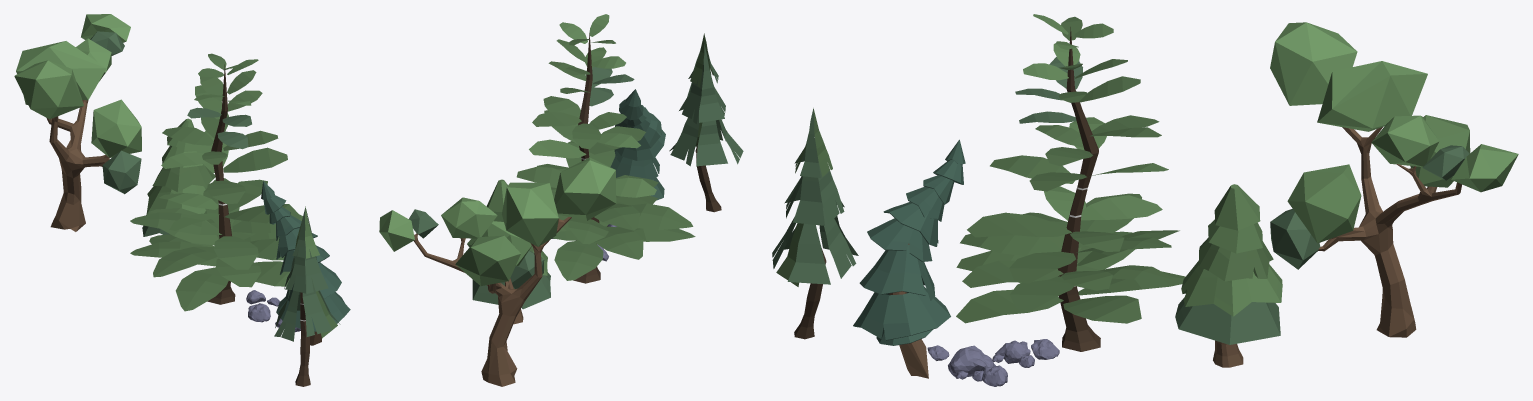
File: trees.glb
3 views of the same model, side by side, from view 1: azimuth 30°, elevation 25°; view 2: azimuth 150°, elevation 25°; view 3: azimuth 270°, elevation 25° (orthographic). The views are drawn at different scales.
Parts seen in each view (by area): view 1: Cone.430, Plane, Icosphere.005, Icosphere.006, Icosphere.003, Plane.003, Cylinder.006, Icosphere.007, Plane.011, Cylinder.003, Plane.013, Plane.015 (+37 smaller); view 2: Plane, Icosphere.005, Cone.430, Icosphere.003, Icosphere.004, Icosphere, Plane.004, Plane.011, Plane.007, Icosphere.002, Plane.051, Cylinder.001 (+28 smaller); view 3: Cone.430, Plane, Icosphere.003, Icosphere.005, Icosphere.006, Cylinder.006, Cylinder.001, Cylinder.002, Icosphere, Cylinder.003, Icosphere.002, Icosphere.007 (+35 smaller).
Boxes of the visible parts, left/top/right/bottom form: Cone.430: left=261, top=181, right=350, bottom=345; Plane: left=46, top=100, right=109, bottom=231; Icosphere.005: left=14, top=60, right=83, bottom=119; Icosphere.006: left=91, top=99, right=141, bottom=157; Icosphere.003: left=16, top=41, right=106, bottom=100; Plane.003: left=175, top=267, right=228, bottom=311; Cylinder.006: left=207, top=64, right=235, bottom=304; Icosphere.007: left=102, top=150, right=141, bottom=194; Plane.011: left=153, top=246, right=217, bottom=277; Cylinder.003: left=152, top=164, right=215, bottom=192; Plane.013: left=213, top=236, right=258, bottom=269; Plane.015: left=130, top=212, right=221, bottom=234; Plane: left=414, top=217, right=571, bottom=386; Icosphere.005: left=554, top=157, right=616, bottom=220; Cone.430: left=607, top=89, right=665, bottom=226; Icosphere.003: left=502, top=182, right=558, bottom=246; Icosphere.004: left=455, top=235, right=520, bottom=285; Icosphere: left=441, top=197, right=497, bottom=238; Plane.004: left=554, top=240, right=603, bottom=280; Plane.011: left=629, top=203, right=693, bottom=230; Plane.007: left=594, top=226, right=643, bottom=259; Icosphere.002: left=379, top=210, right=414, bottom=251; Plane.051: left=696, top=120, right=727, bottom=166; Cylinder.001: left=472, top=272, right=550, bottom=309; Cone.430: left=853, top=139, right=965, bottom=378; Plane: left=1318, top=127, right=1462, bottom=337; Icosphere.003: left=1317, top=61, right=1427, bottom=131; Icosphere.005: left=1270, top=22, right=1357, bottom=105; Icosphere.006: left=1287, top=164, right=1361, bottom=243; Cylinder.006: left=1058, top=27, right=1100, bottom=351; Cylinder.001: left=1175, top=298, right=1280, bottom=344; Cylinder.002: left=1181, top=260, right=1282, bottom=316; Icosphere: left=1371, top=115, right=1439, bottom=166; Cylinder.003: left=1199, top=237, right=1273, bottom=281; Icosphere.002: left=1451, top=144, right=1518, bottom=192; Icosphere.007: left=1270, top=209, right=1320, bottom=269.
Bounding box in the file's own units: 6.83 × 9.03 × 18.18.
